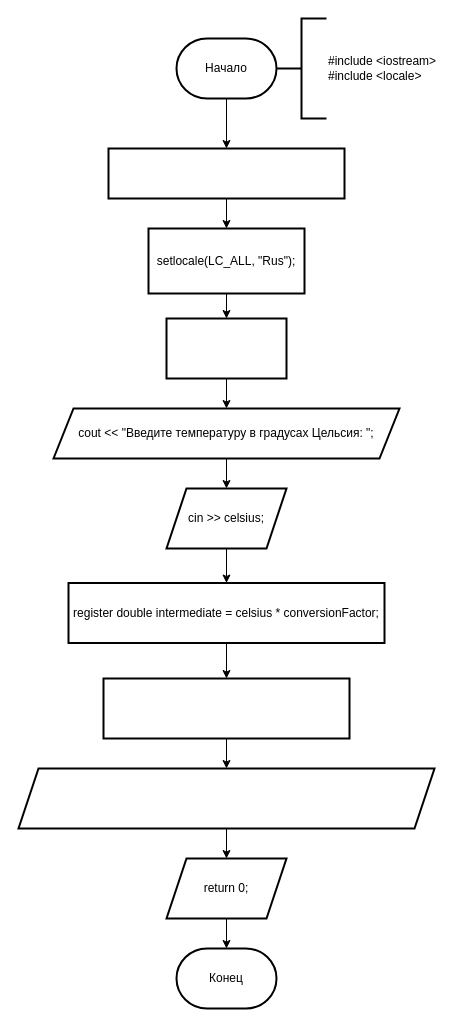
The diagram is 453 pixels wide and 1026 high, and some of its shapes have lost their labels. The shapes that lost their labels are listed below. From the top down, each one's box as (x1, y1, x2, y2) in pixels, then its label:
(107, 147, 345, 199): extern double conversionFactor = 9.0 / 5.0;
(165, 317, 287, 379): auto celsius = 0.0;
(102, 677, 350, 739): static double fahrenheit = intermediate + 32;
(17, 767, 435, 829): cout << "Температура в градусах Фаренгейта: " << fahrenheit << endl;
